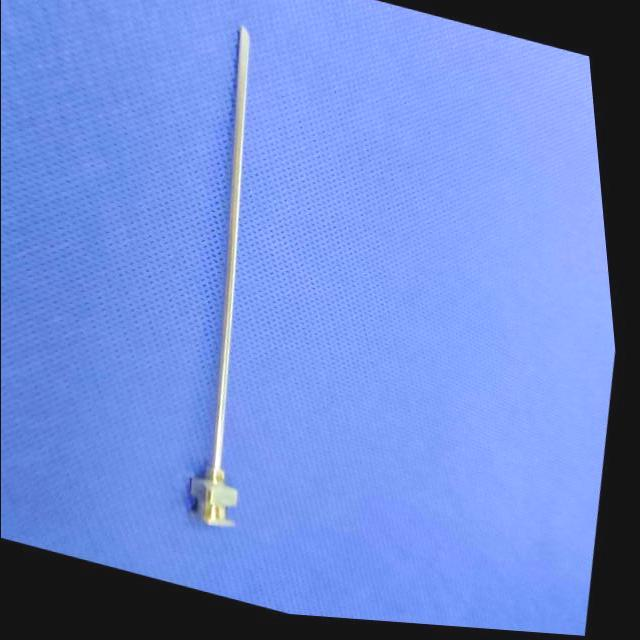General: (1, 1, 617, 639)
Sharps: (188, 25, 252, 529)
